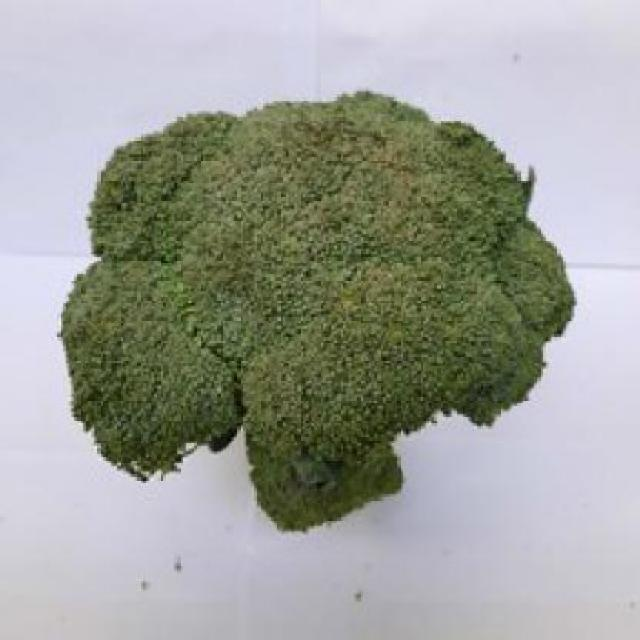broccoli: (83, 102, 566, 518)
